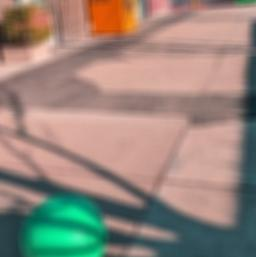algae: (19, 196, 104, 257)
